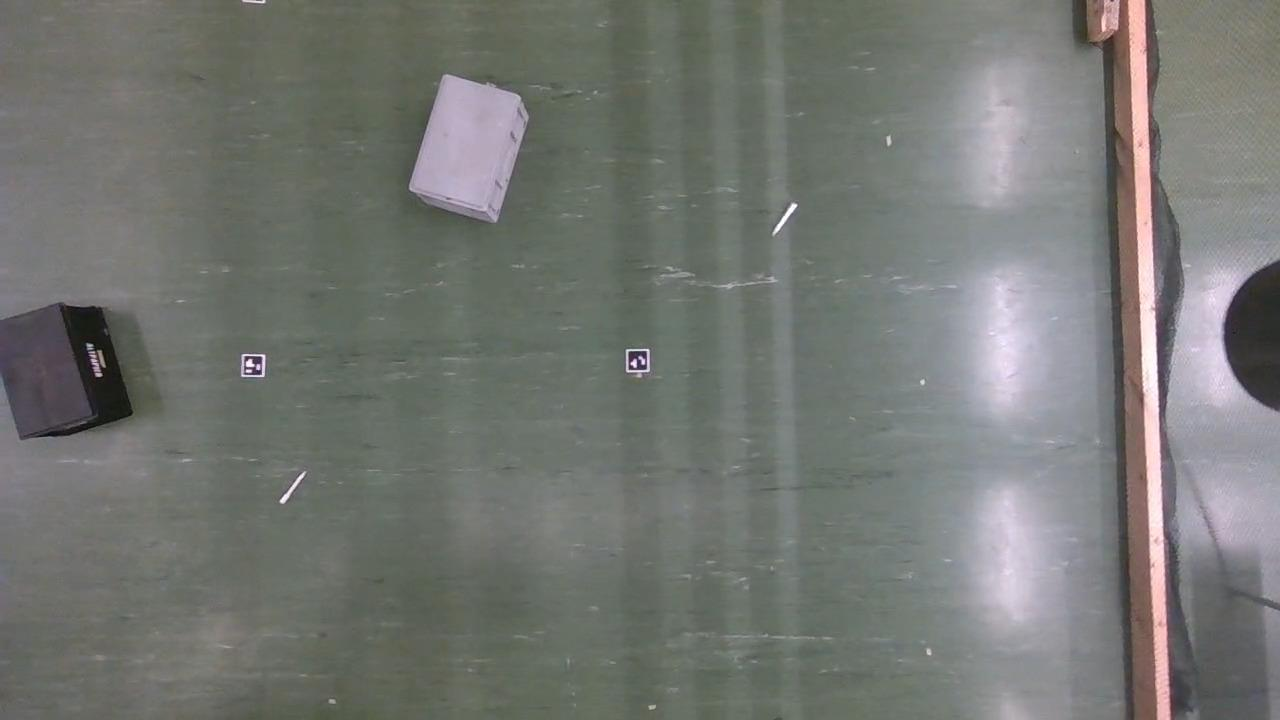probes: (279, 470, 305, 504), (771, 202, 797, 236)
rako: (408, 74, 532, 226), (0, 303, 135, 441)
